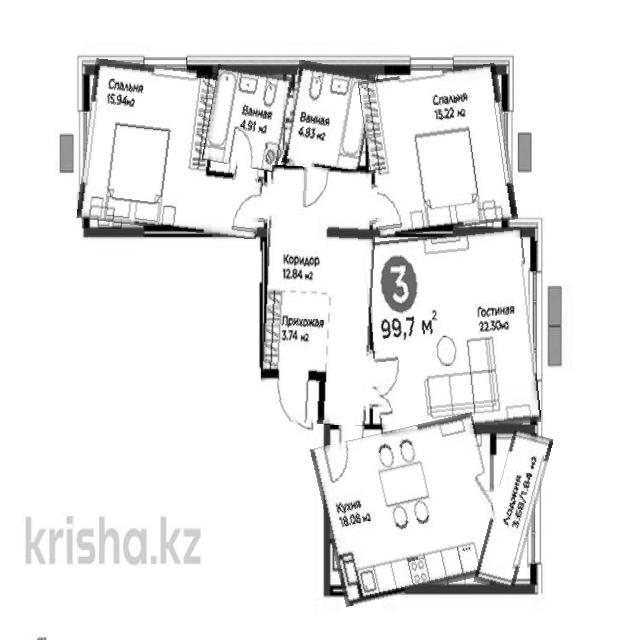balcony: (483, 430, 544, 591)
bathroom: (286, 64, 372, 174), (206, 67, 289, 170)
hallway: (261, 168, 374, 426)
kitchen: (318, 421, 500, 599)
living_room: (366, 231, 537, 434), (76, 59, 263, 239), (363, 68, 513, 234)
